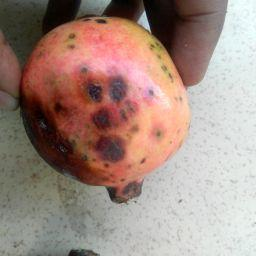pomegranate: (20, 16, 192, 203)
